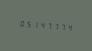five: (24, 18, 30, 29)
four: (66, 21, 72, 33), (38, 19, 44, 30)
one: (31, 18, 37, 30)
seven: (45, 19, 51, 31), (52, 20, 58, 32), (59, 21, 65, 32)
zero: (17, 17, 23, 28)
